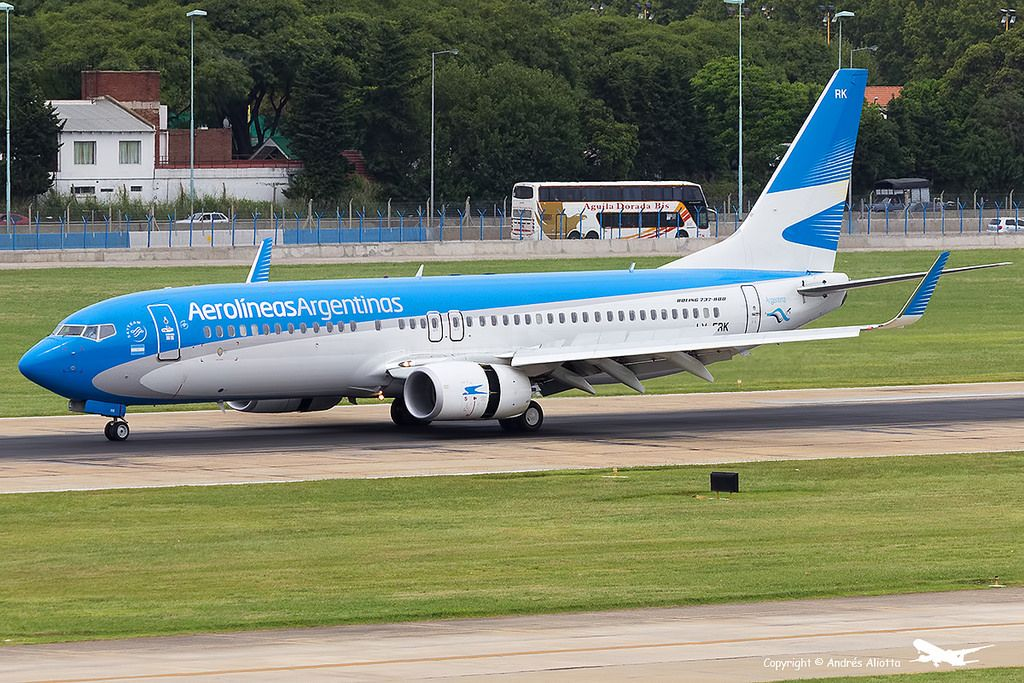Aeronef_commercial: (15, 65, 1017, 450)
